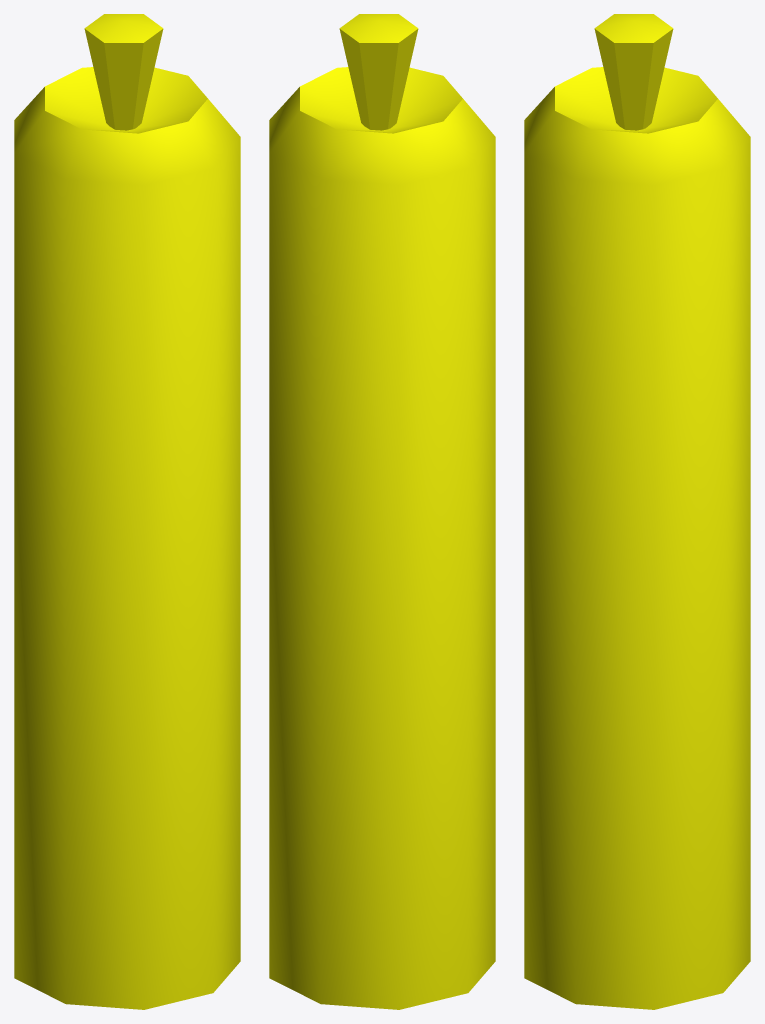
File: kaykit-candle-thin.glb
The picture shows the model from 3 angles, left to right: view 1: azimuth 30°, elevation 25°; view 2: azimuth 150°, elevation 25°; view 3: azimuth 270°, elevation 25°; orthographic projection.
Visible parts, largest first — view 1: candle_thin; view 2: candle_thin; view 3: candle_thin.
Boxes of the visible parts, box(x1,y1,x2,y2) form: candle_thin: box(14, 14, 240, 1009); candle_thin: box(269, 14, 495, 1009); candle_thin: box(524, 14, 750, 1009).
Size of the model in its own units: 0.1932 by 0.873 by 0.1902.
